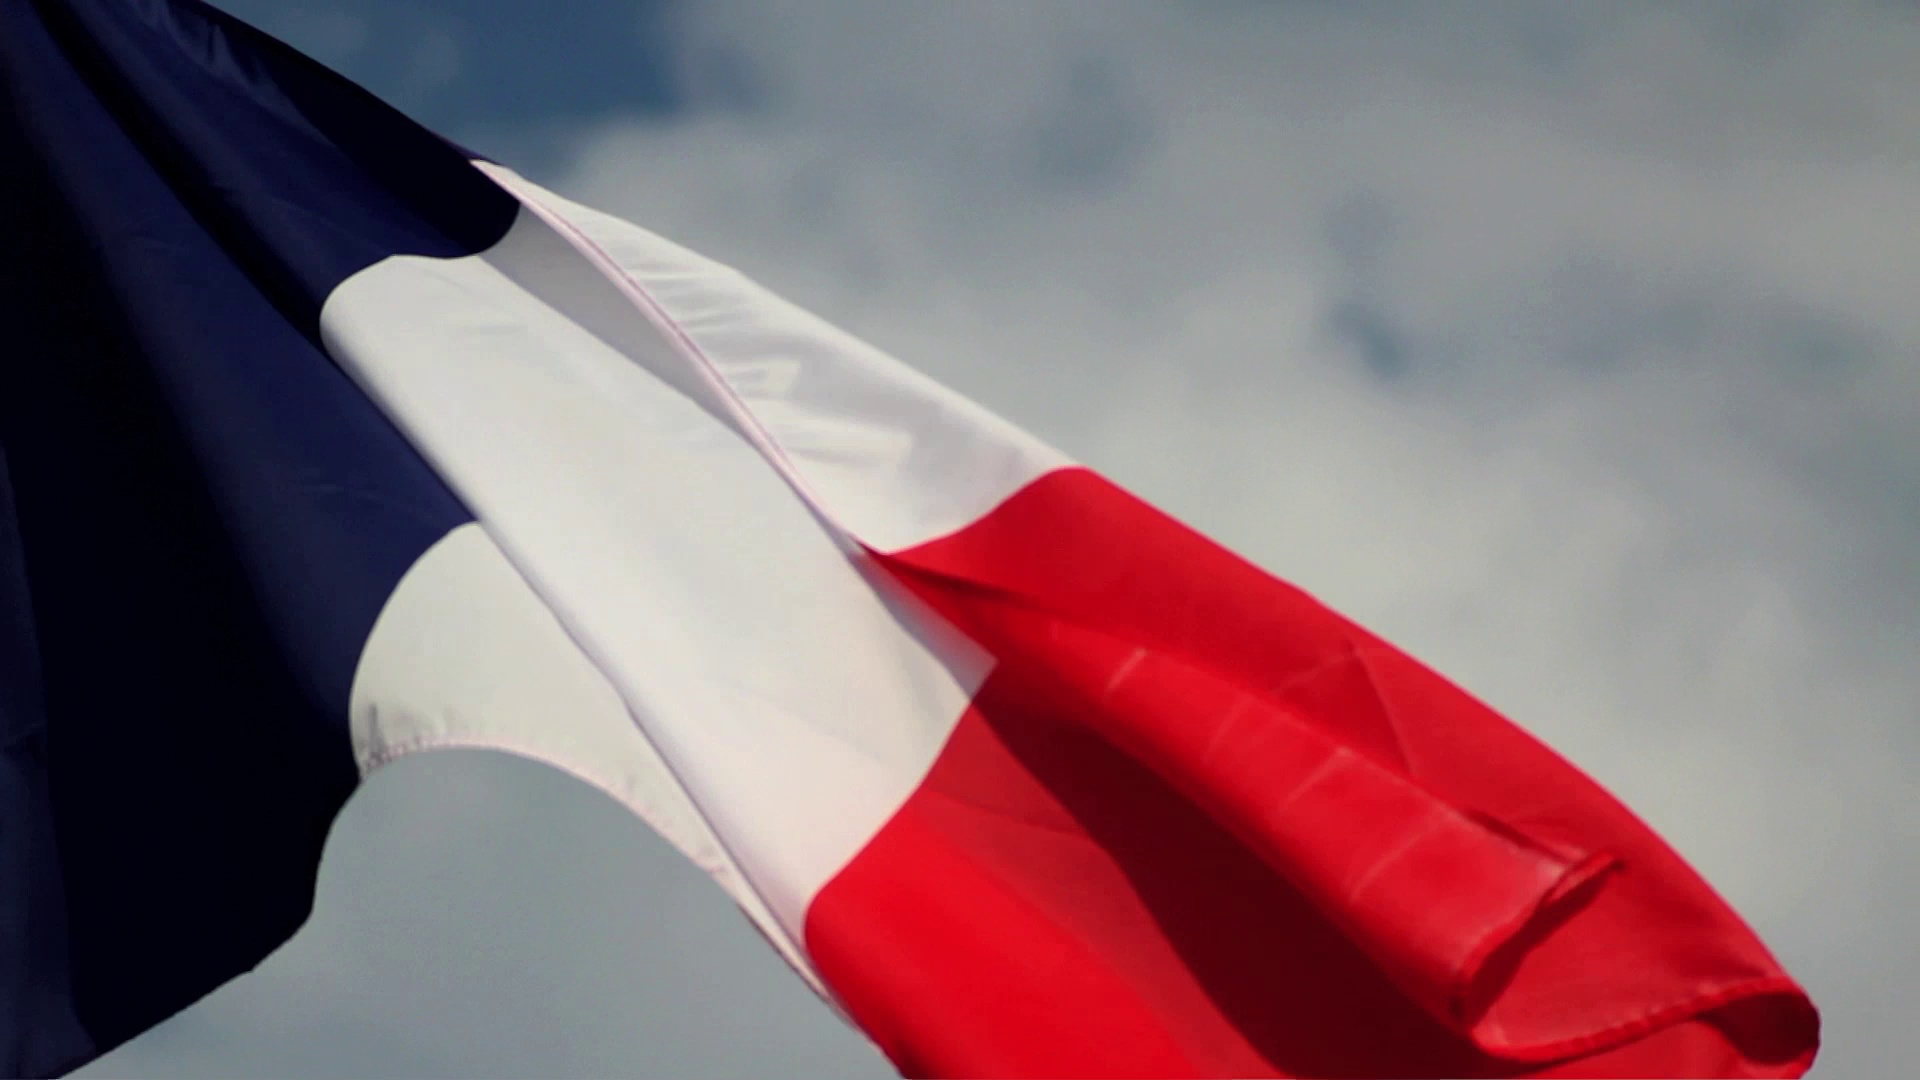French Flag: (3, 1, 1836, 1080)
